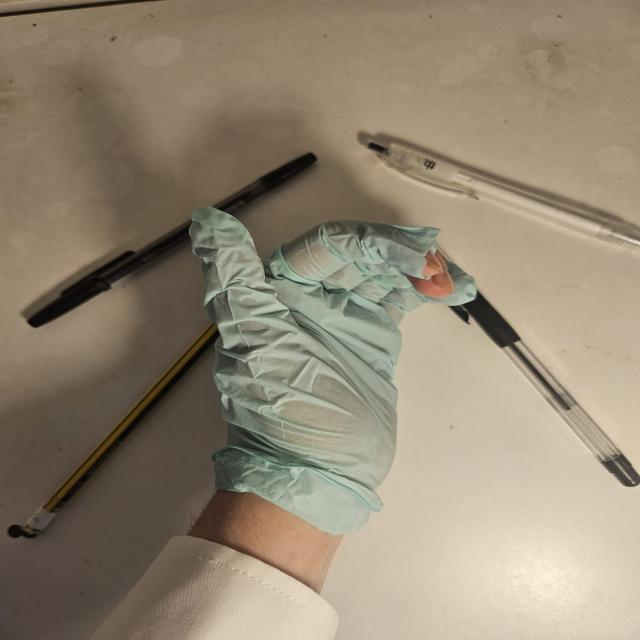gloves_damaged: (188, 199, 478, 538)
